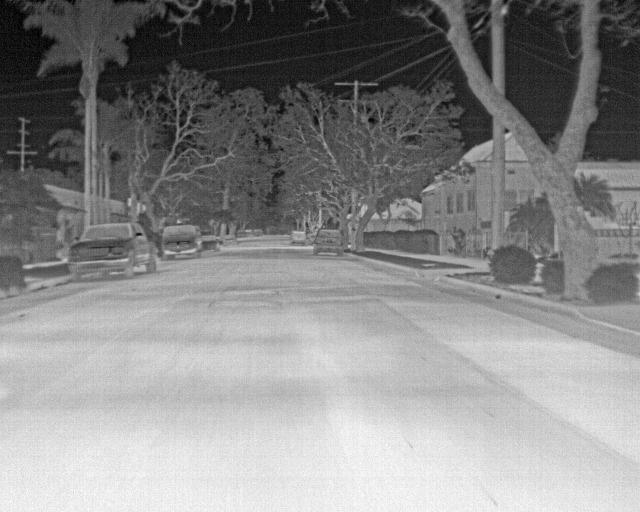car: (67, 221, 158, 281), (162, 224, 200, 258), (312, 226, 346, 256), (201, 232, 221, 252), (288, 227, 305, 245)
